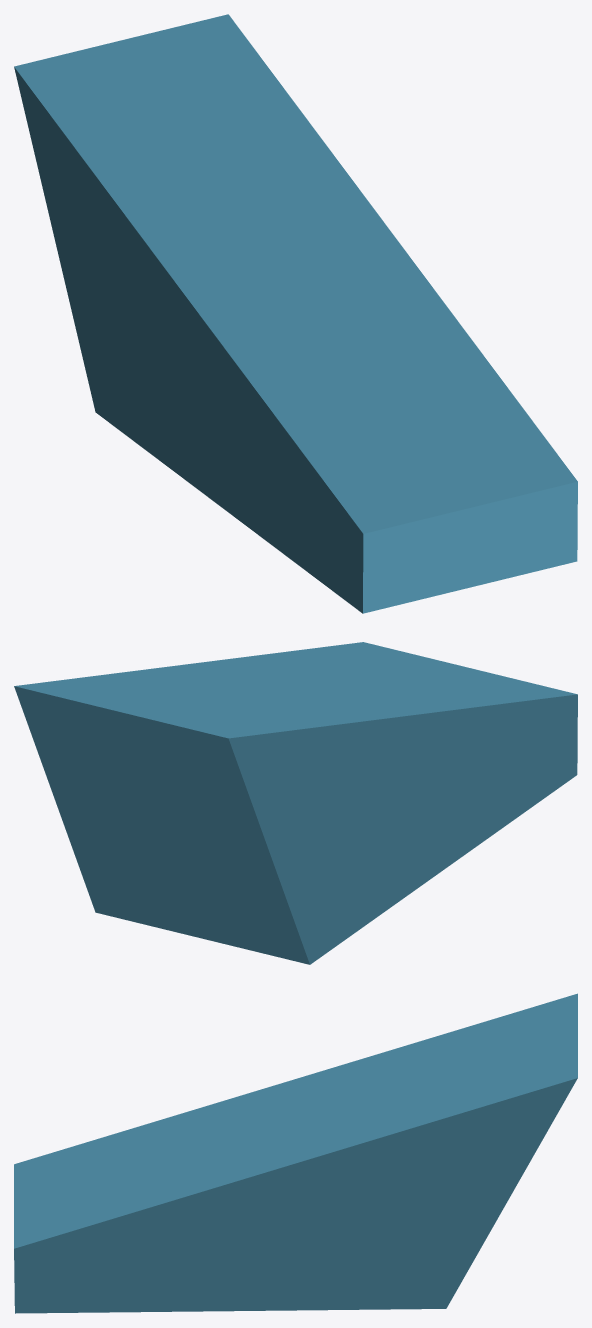
The model's file is NexusC_Trigger_30.fbx.
The picture shows the model from 3 angles, top to bottom: view 1: azimuth 30°, elevation 25°; view 2: azimuth 150°, elevation 25°; view 3: azimuth 270°, elevation 25°; orthographic projection. The views are drawn at different scales.
Parts seen in each view (by area): view 1: polySurface12; view 2: polySurface12; view 3: polySurface12.
Boxes of the visible parts, x1=… form: polySurface12: x1=14, y1=14, x2=577, y2=613; polySurface12: x1=14, y1=642, x2=577, y2=964; polySurface12: x1=14, y1=993, x2=577, y2=1313.
Bounding box in the file's own units: 10.17 × 13.21 × 28.68.
